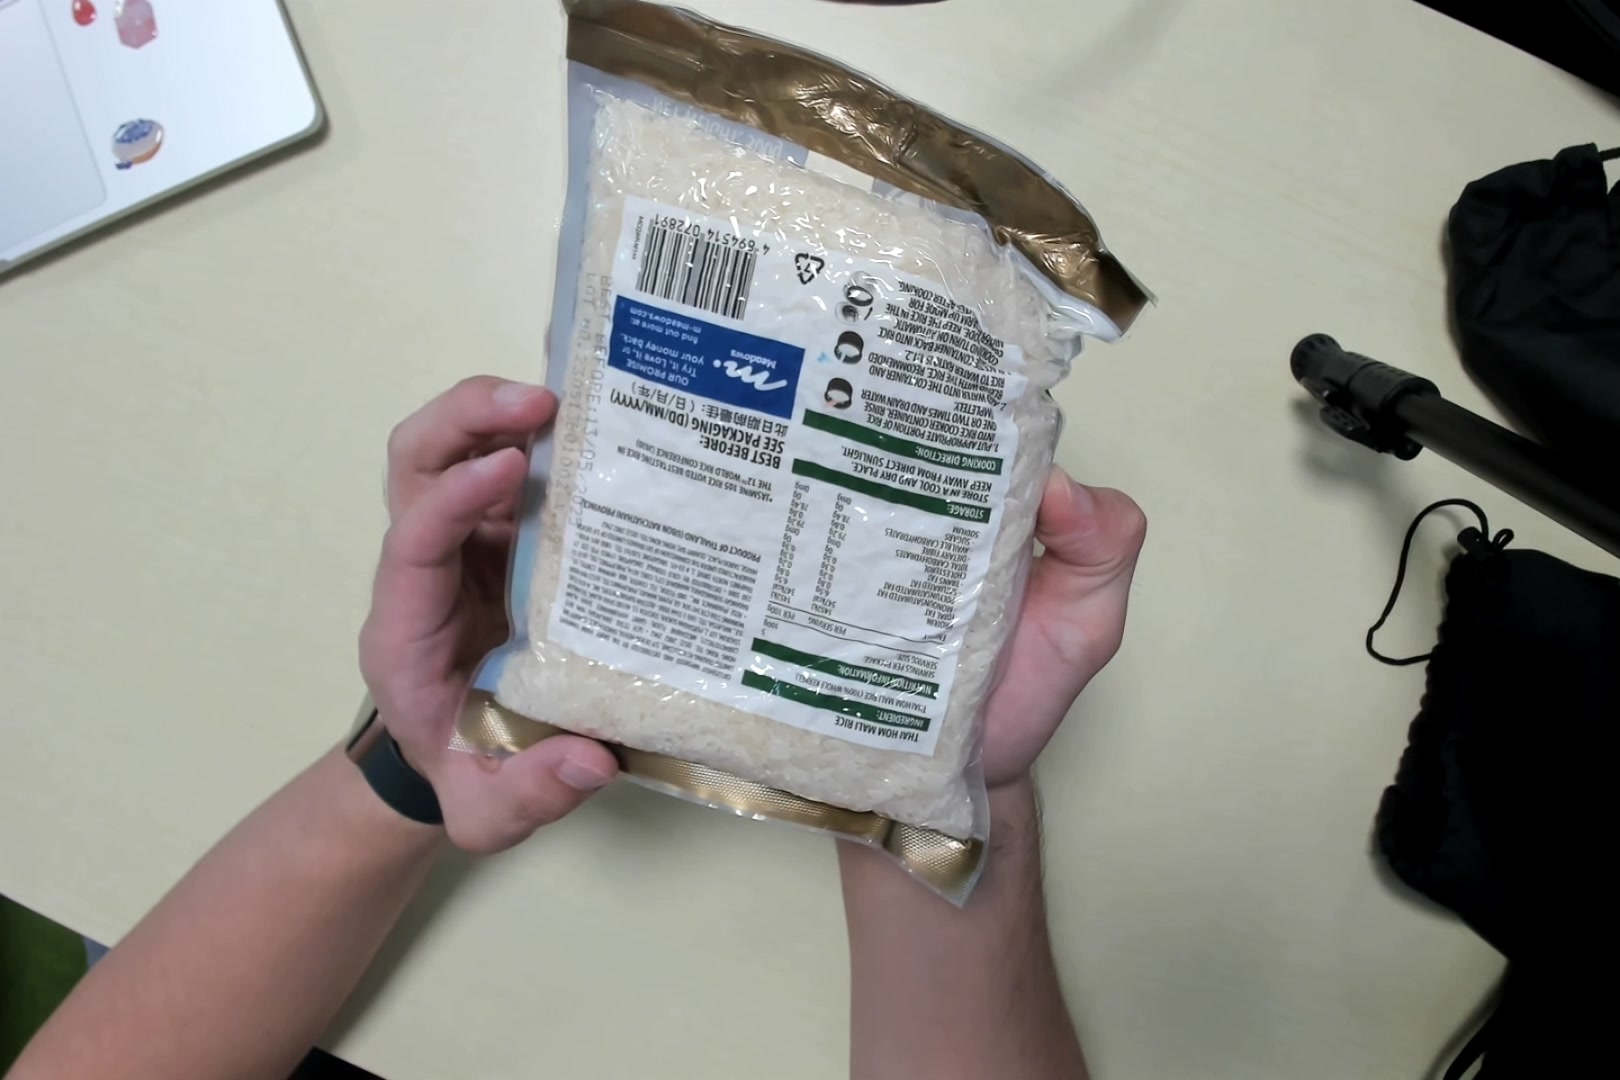Rice(White)_500-599g_NonHalal_NonHealthy: (488, 6, 1166, 880)
